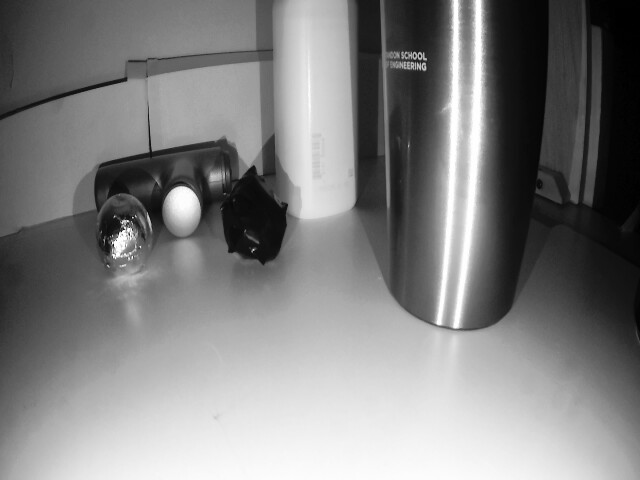black: (89, 194, 153, 275)
silver: (223, 182, 290, 267)
